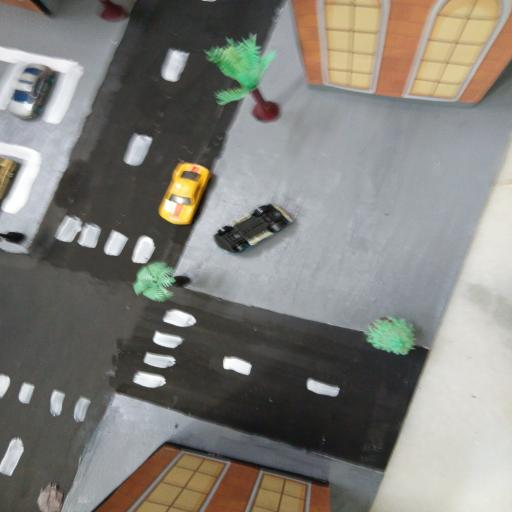car crash: (158, 164, 303, 258)
